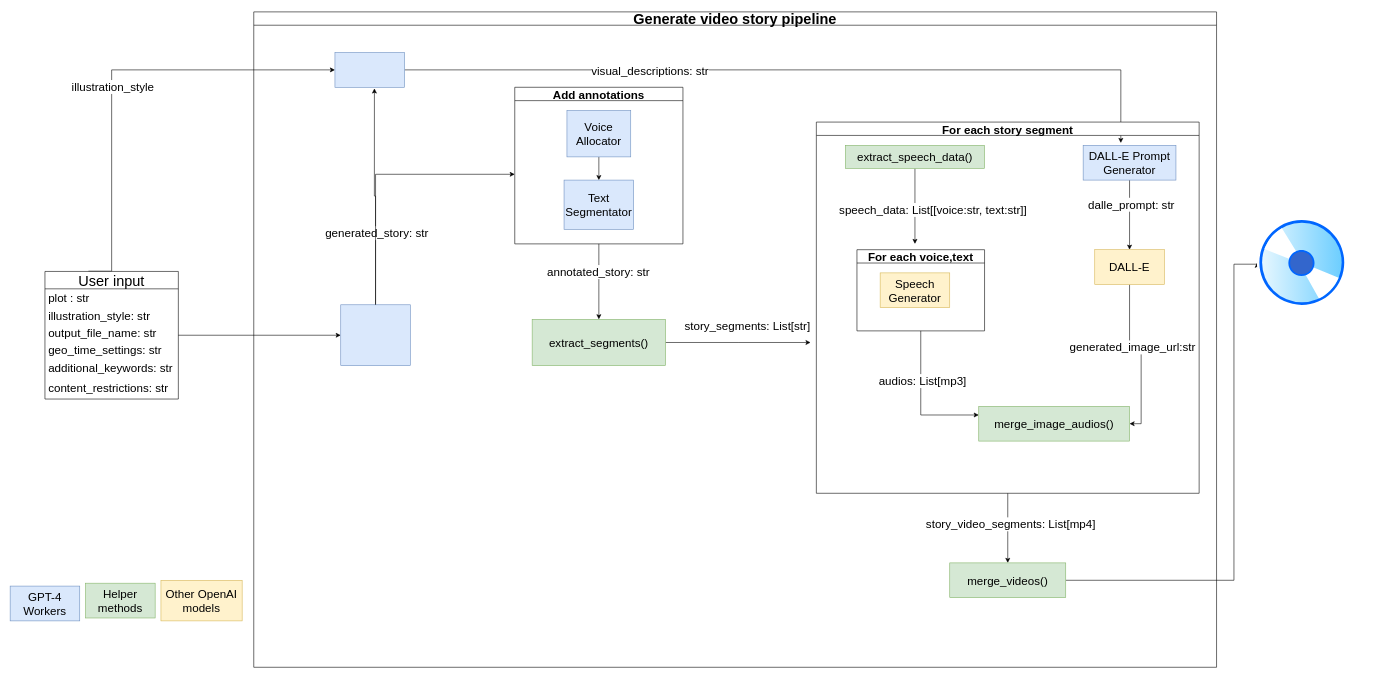
Some shapes in this 1381 by 677 pixel diagram are drawn without their labels. The centre of each missing label's shape, as x and y in pixels:
Generated video (mp4 file): the point at 1302,262
Story Generator: the point at 375,335
Visual descriptor: the point at 369,69
